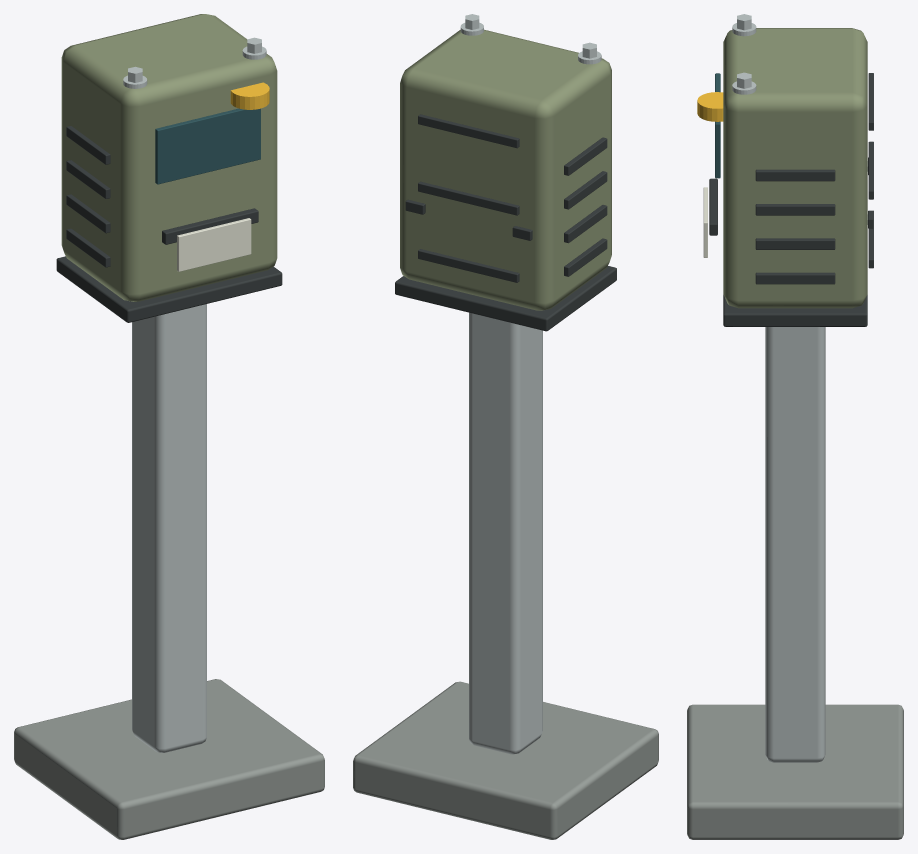
File: mountain-border-checkpoint-mountain-border-checkpoint--138822c0__30334.glb
3 renders of one model, left to right at view 1: azimuth 30°, elevation 25°; view 2: azimuth 150°, elevation 25°; view 3: azimuth 270°, elevation 25°, orthographic. The views are drawn at different scales.
Visible parts, largest first — view 1: mountain-border-checkpoint-ticket-dispenser; view 2: mountain-border-checkpoint-ticket-dispenser; view 3: mountain-border-checkpoint-ticket-dispenser.
Boxes of the visible parts, x1,y1,x2,y2 form: mountain-border-checkpoint-ticket-dispenser: (14,14,324,839); mountain-border-checkpoint-ticket-dispenser: (353,14,658,839); mountain-border-checkpoint-ticket-dispenser: (687,14,903,839).
Size of the model in its own units: 0.4 by 1.36 by 0.36.
